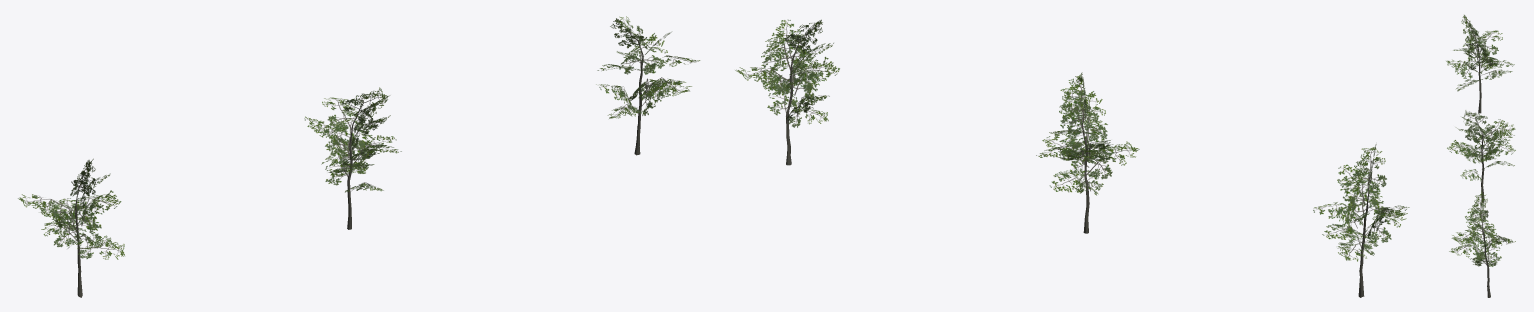
Rendered from campus-trees.glb.
The picture shows the model from 3 angles, left to right: view 1: azimuth 30°, elevation 25°; view 2: azimuth 150°, elevation 25°; view 3: azimuth 270°, elevation 25°; orthographic projection. The views are drawn at different scales.
Visible parts, largest first — view 1: oak2, oak1, oak3; view 2: oak3, oak2, oak1; view 3: oak2, oak3, oak1.
Part boxes in pixels (x1,y1,x2,y2): oak2: [304, 87, 401, 229]; oak1: [18, 158, 124, 297]; oak3: [596, 16, 700, 155]; oak3: [735, 19, 839, 165]; oak2: [1036, 72, 1139, 233]; oak1: [1313, 144, 1409, 297]; oak2: [1447, 110, 1515, 202]; oak3: [1449, 190, 1515, 297]; oak1: [1446, 15, 1514, 113].
Bounding box in the file's own units: 4.68 × 1 × 0.7009.
Materials: 2 (2 with a texture image).
